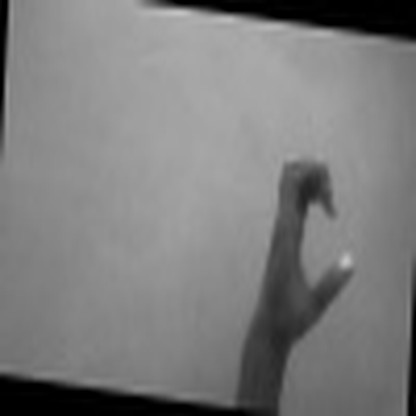c: (261, 148, 361, 338)
